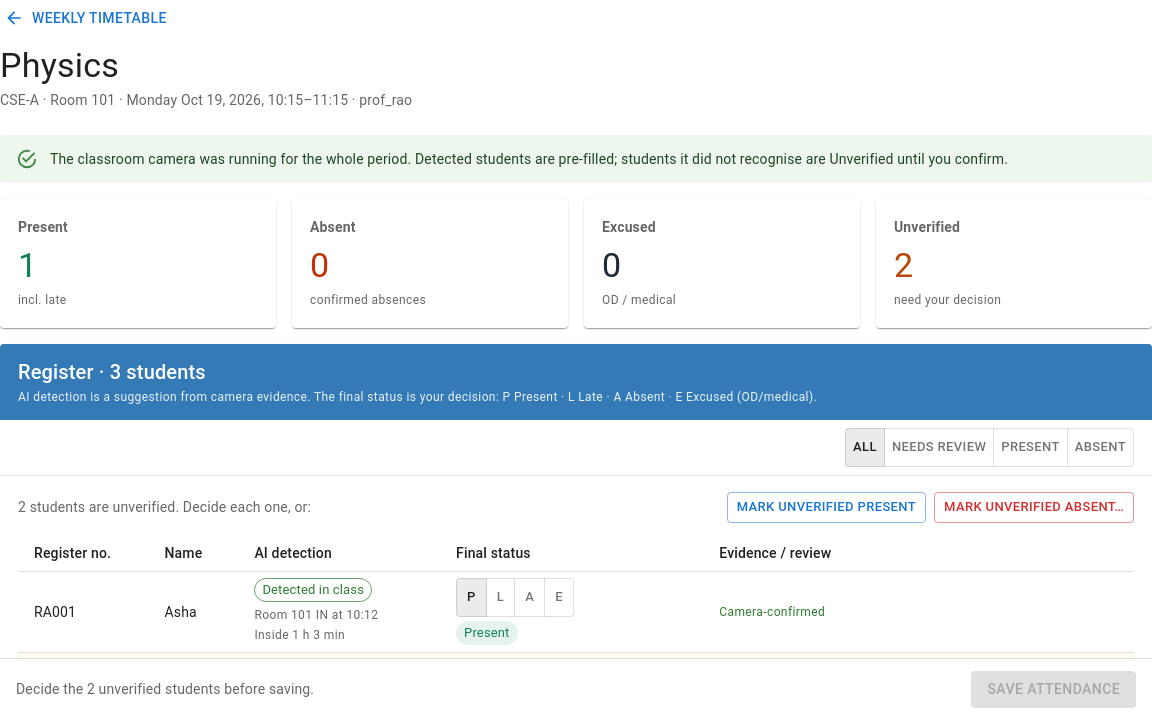
class register › marking all unverified students absent asks for confirmation first
What coordinates should you click on to do the following:
click the button "Mark unverified absent…"
I would click on:
 (1034, 508)
Its box is [934,492,1134,523].
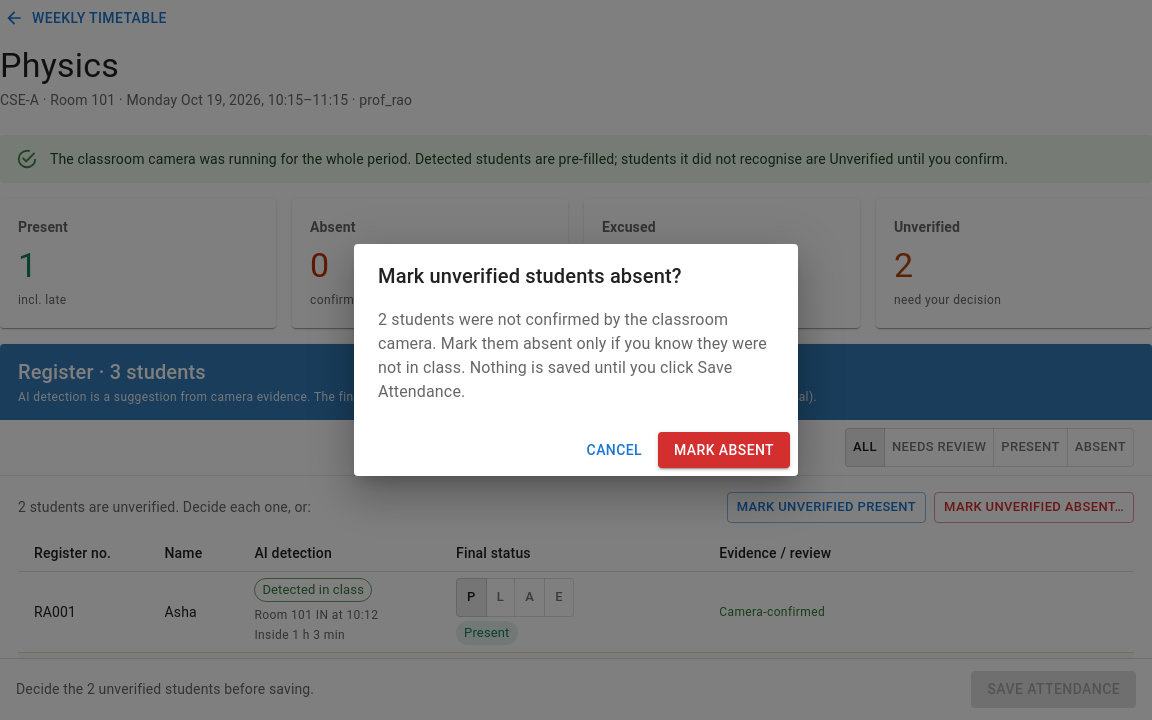
Check: the text "not confirmed by the classroom camera" is shown, box [378,310,767,401]
What coordinates should you click on to do the following:
click the button "Cancel"
I would click on:
 (614, 450)
Its box is [579,432,650,468].
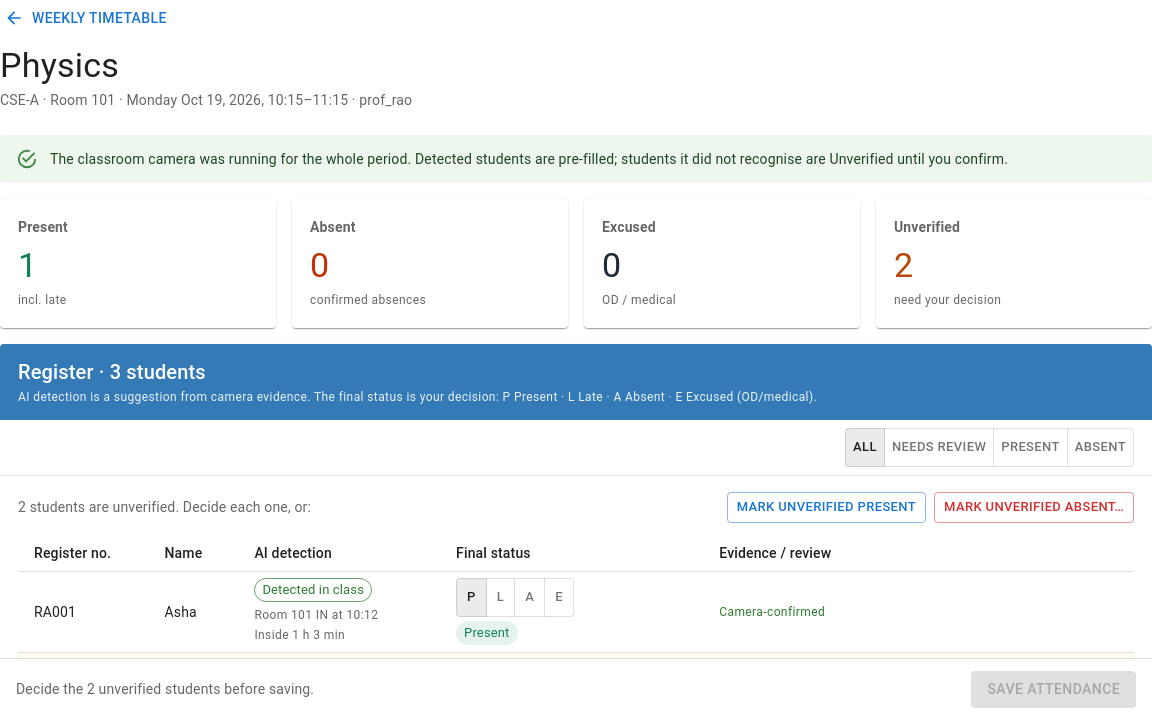
Check: the text named "Unverified" reads "2", box [894,244,913,284]
Check: the dialog is gone
What coordinates should you click on to do the following:
click the button "Mark unverified absent…"
I would click on:
 (1034, 508)
Its box is [934,492,1134,523].
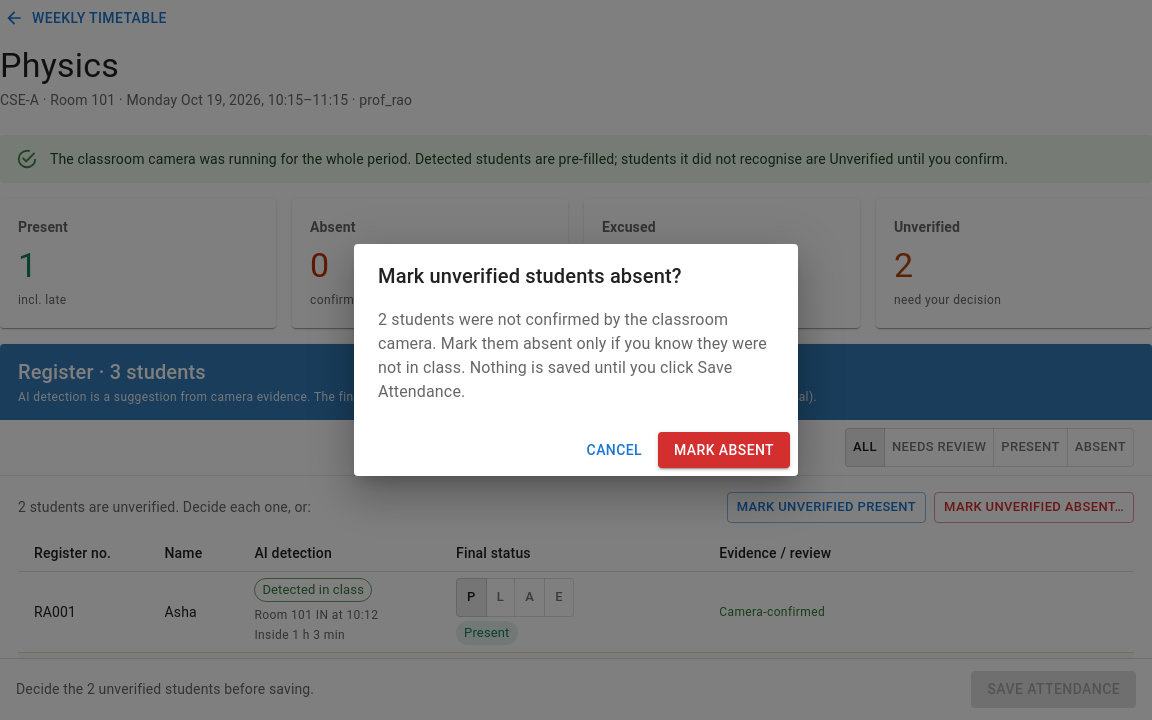
What coordinates should you click on to do the following:
click the button "Mark absent"
I would click on:
 (724, 450)
Its box is [658,432,790,468].
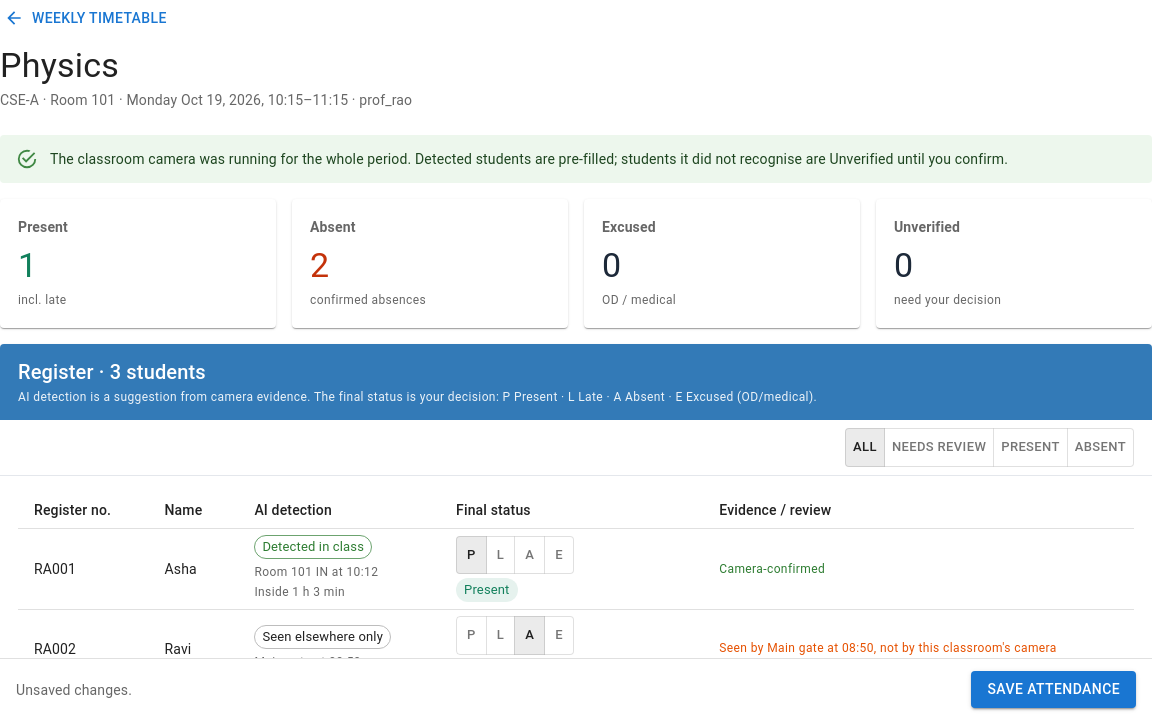
Check: the text named "Absent" reads "2", box [310,244,329,284]
